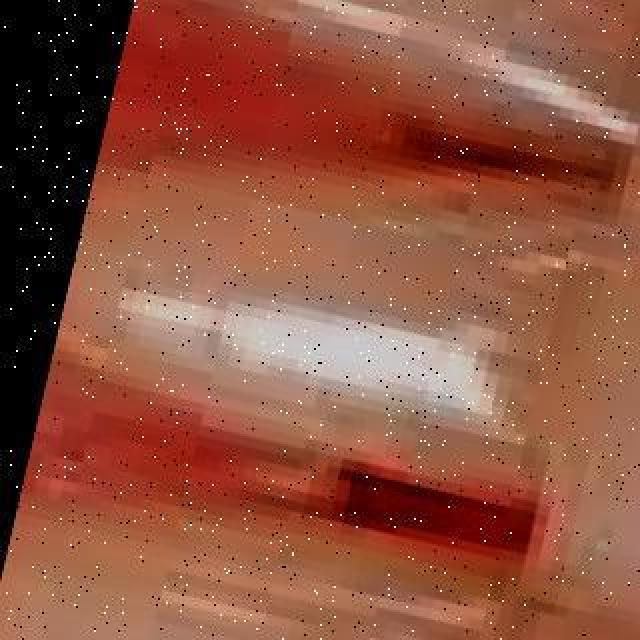spacing: (283, 418, 567, 604), (360, 92, 606, 216)
